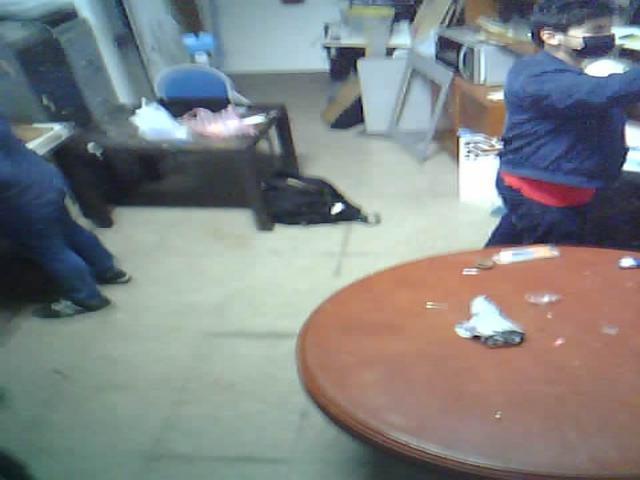person: (463, 1, 640, 260), (0, 95, 152, 333)
